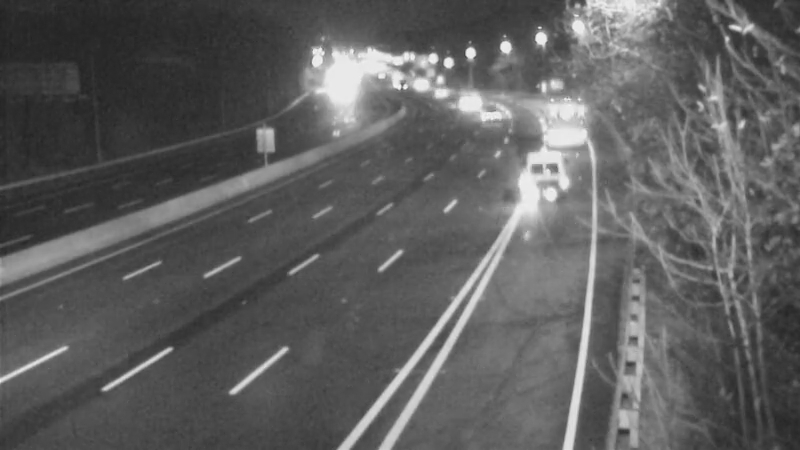vehicle: (507, 133, 587, 213), (411, 68, 461, 118), (434, 74, 484, 124), (465, 87, 515, 137), (535, 103, 585, 153)
